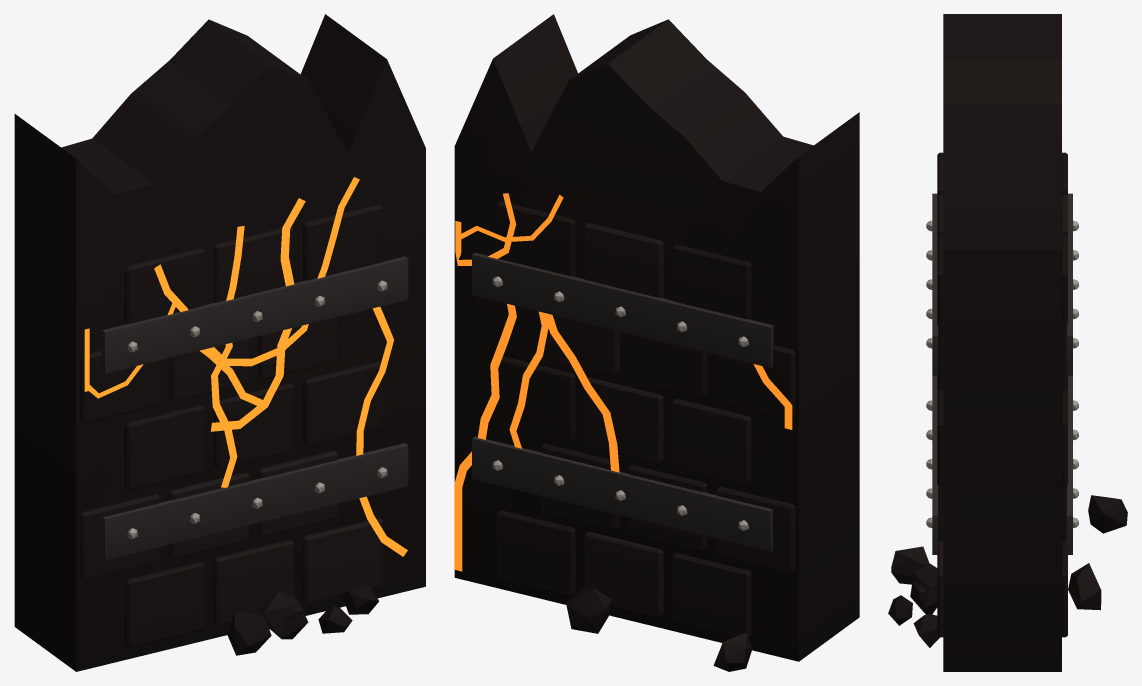
The model's file is broken_wall.glb.
3 views of the same model, side by side, from view 1: azimuth 30°, elevation 25°; view 2: azimuth 150°, elevation 25°; view 3: azimuth 270°, elevation 25° (orthographic). The views are drawn at different scales.
Parts seen in each view (by area): view 1: broken_wall_mesh; view 2: broken_wall_mesh; view 3: broken_wall_mesh.
Boxes of the visible parts, x1,y1,x2,y2 form: broken_wall_mesh: [14, 14, 425, 671]; broken_wall_mesh: [454, 14, 859, 671]; broken_wall_mesh: [888, 14, 1127, 671].
Size of the model in its own units: 1.96 by 3.07 by 1.21.
